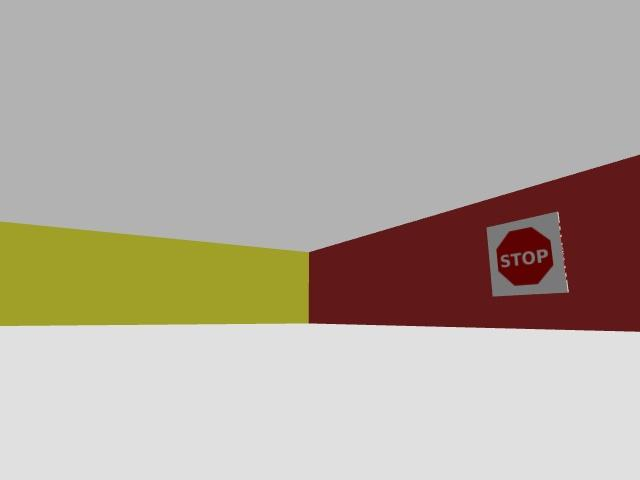stopsign: (487, 212, 568, 296)
